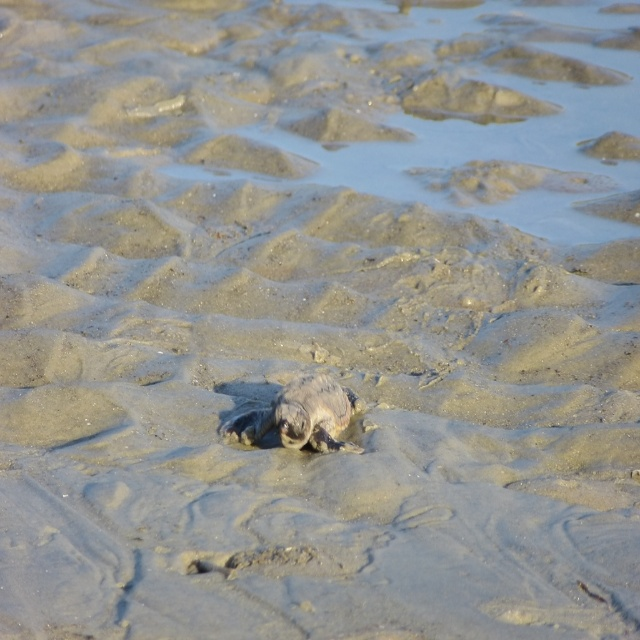Sea turtle: (226, 365, 376, 460)
